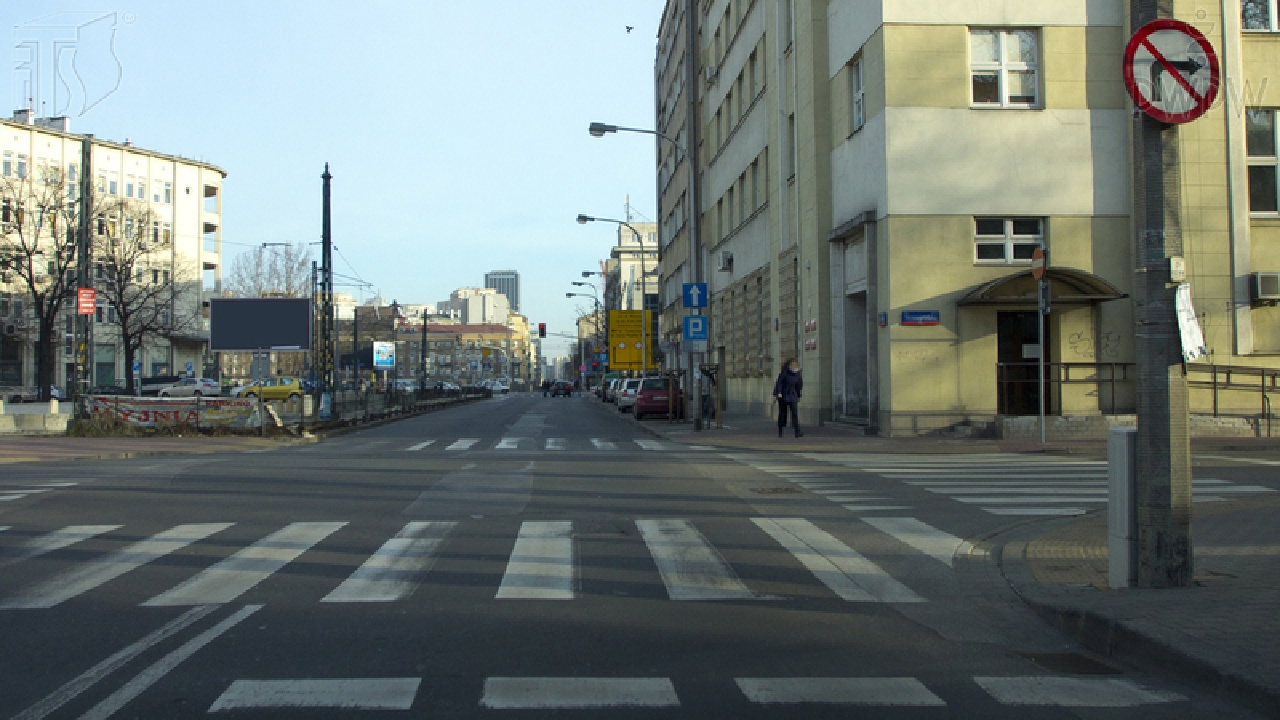B22: (1123, 20, 1218, 124)
D18: (683, 315, 708, 339)
D3: (683, 283, 706, 308)
